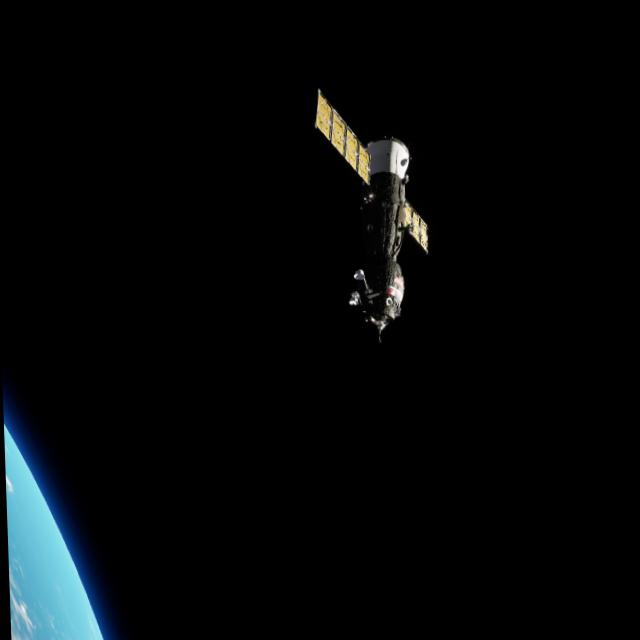Satellites revolving around earth: (310, 80, 435, 347)
